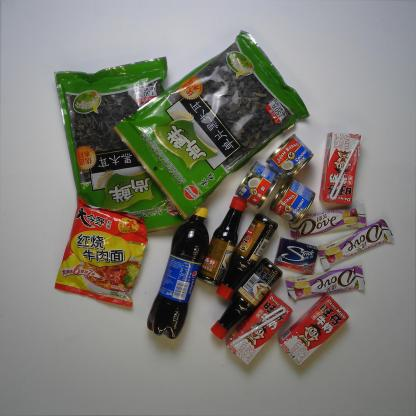Canned Food: (266, 134, 315, 180), (235, 162, 280, 208), (271, 179, 316, 224)
Chocolate: (317, 219, 395, 270), (289, 199, 366, 241), (284, 266, 366, 300)
Dried Food: (112, 29, 310, 221), (54, 55, 192, 242)
Drink: (146, 205, 209, 341)
Gum: (274, 238, 318, 274)
Instant Noodles: (54, 197, 149, 307)
Milk: (279, 295, 349, 365), (228, 293, 292, 366), (319, 132, 362, 203)
Seasoner: (211, 258, 282, 340), (217, 213, 278, 301), (197, 196, 248, 287)
